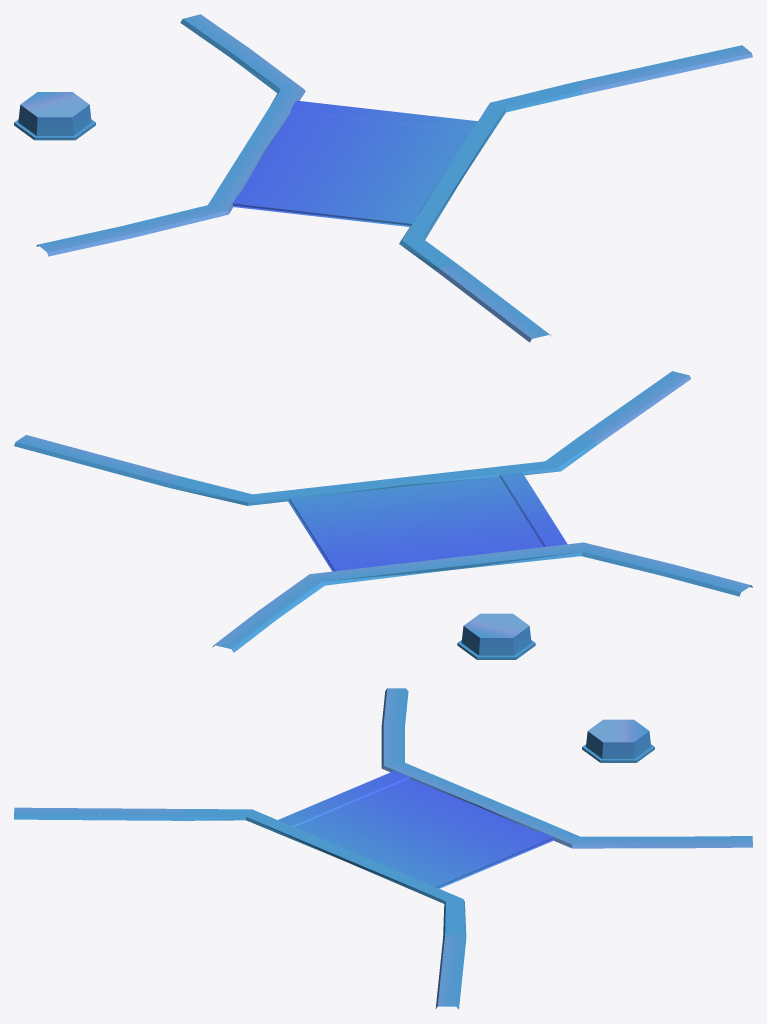
Rendered from Area_06_19.fbx.
The picture shows the model from 3 angles, top to bottom: view 1: azimuth 30°, elevation 25°; view 2: azimuth 150°, elevation 25°; view 3: azimuth 270°, elevation 25°; orthographic projection. The views are drawn at different scales.
Visible parts, largest first — view 1: Area_06_19; view 2: Area_06_19; view 3: Area_06_19.
Part boxes in pixels (x1,y1,x2,y2): Area_06_19: (14,14,752,342); Area_06_19: (14,371,752,659); Area_06_19: (14,688,752,1009).
Size of the model in its own units: 3919 by 115 by 3842.
